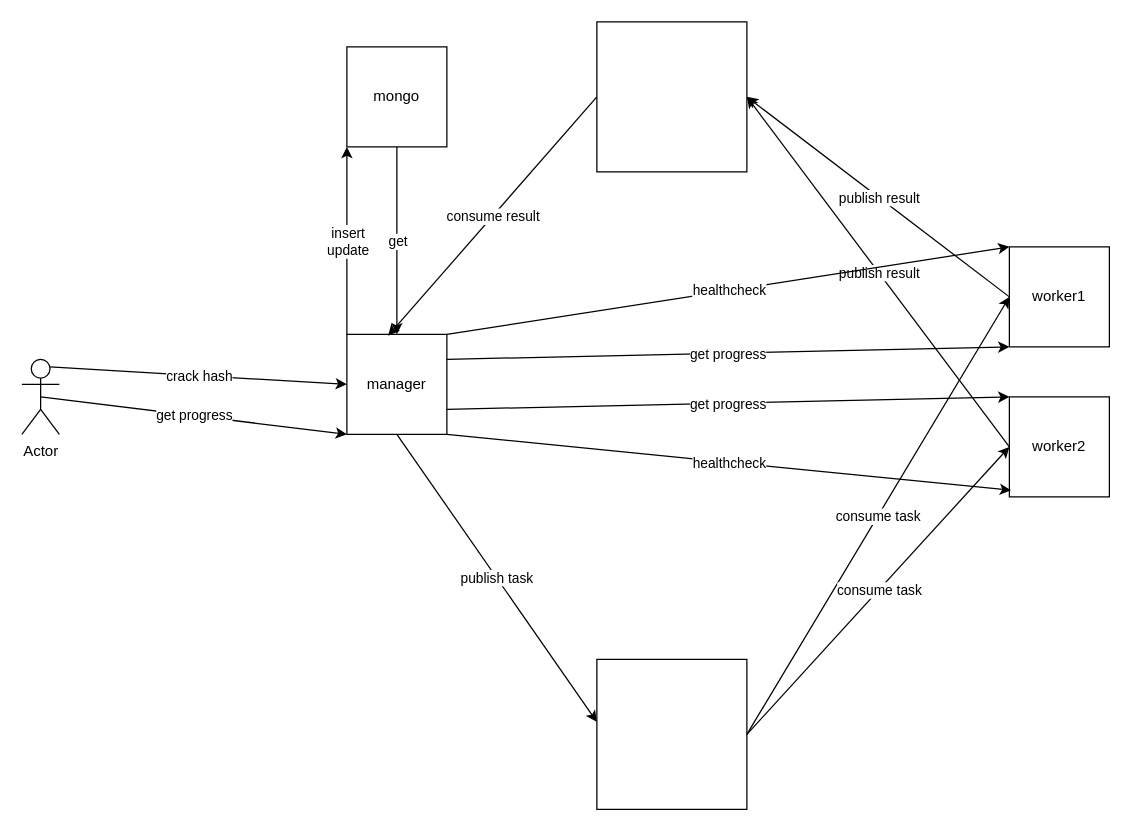
Some shapes in this 1131 by 831 pixel diagram are drawn without their labels. Each missing label, with the centre of its shape:
rabbit: send_result_queue: [671,96]
rabbit: send_task_queue: [671,733]
